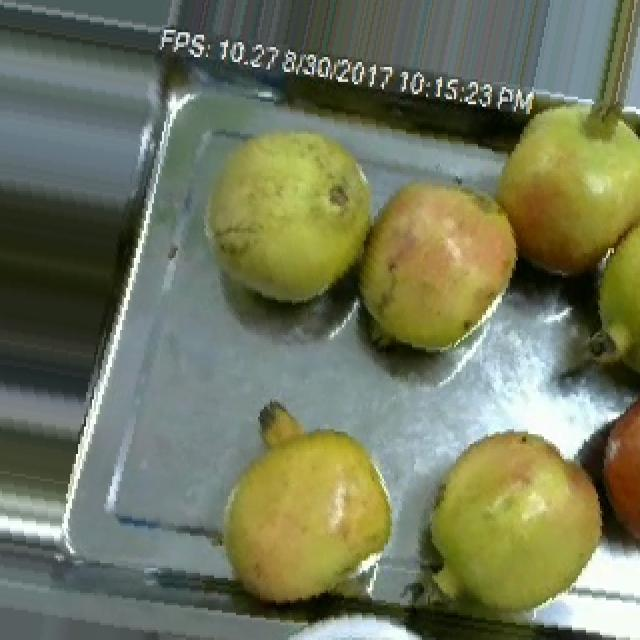fruit: (180, 387, 418, 633), (402, 410, 626, 638), (194, 104, 394, 328), (338, 158, 536, 374), (474, 77, 640, 300)
